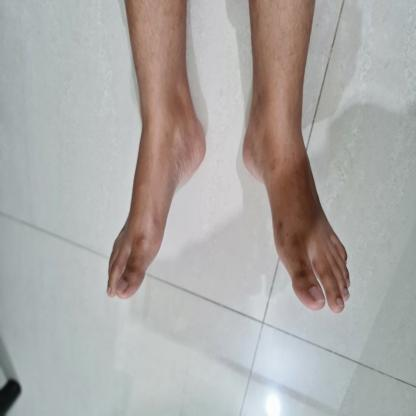leg: (237, 1, 356, 318), (100, 1, 212, 309)
